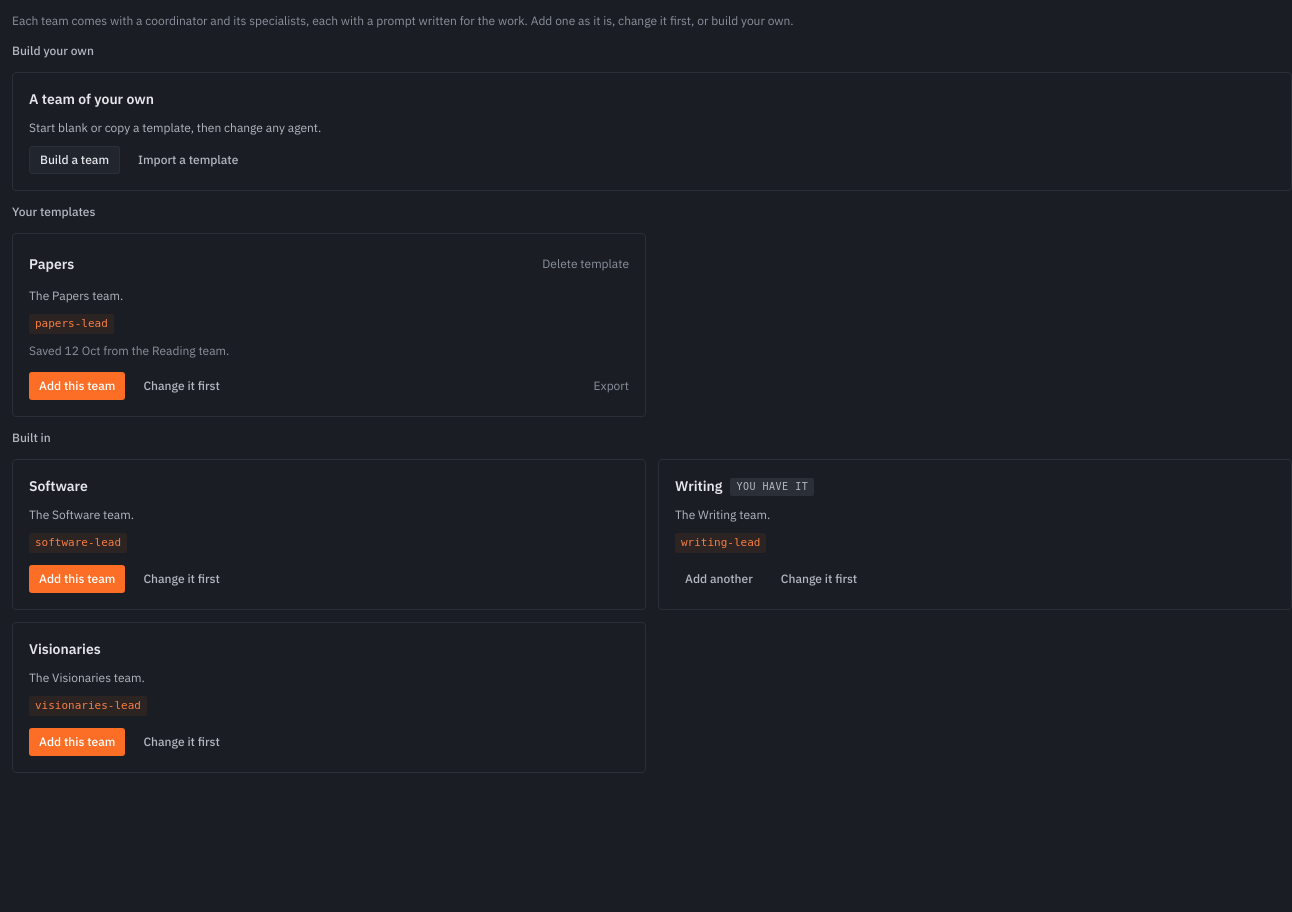
Test: AddTeam: deleting a template of yours › Keep, or Esc, puts the card back as it was, focus on Delete template
The width and height of the screenshot is (1292, 912).
Step 1. Click the button with aria-label "Delete template, Papers" → (586, 264), box [542,250,629,278]
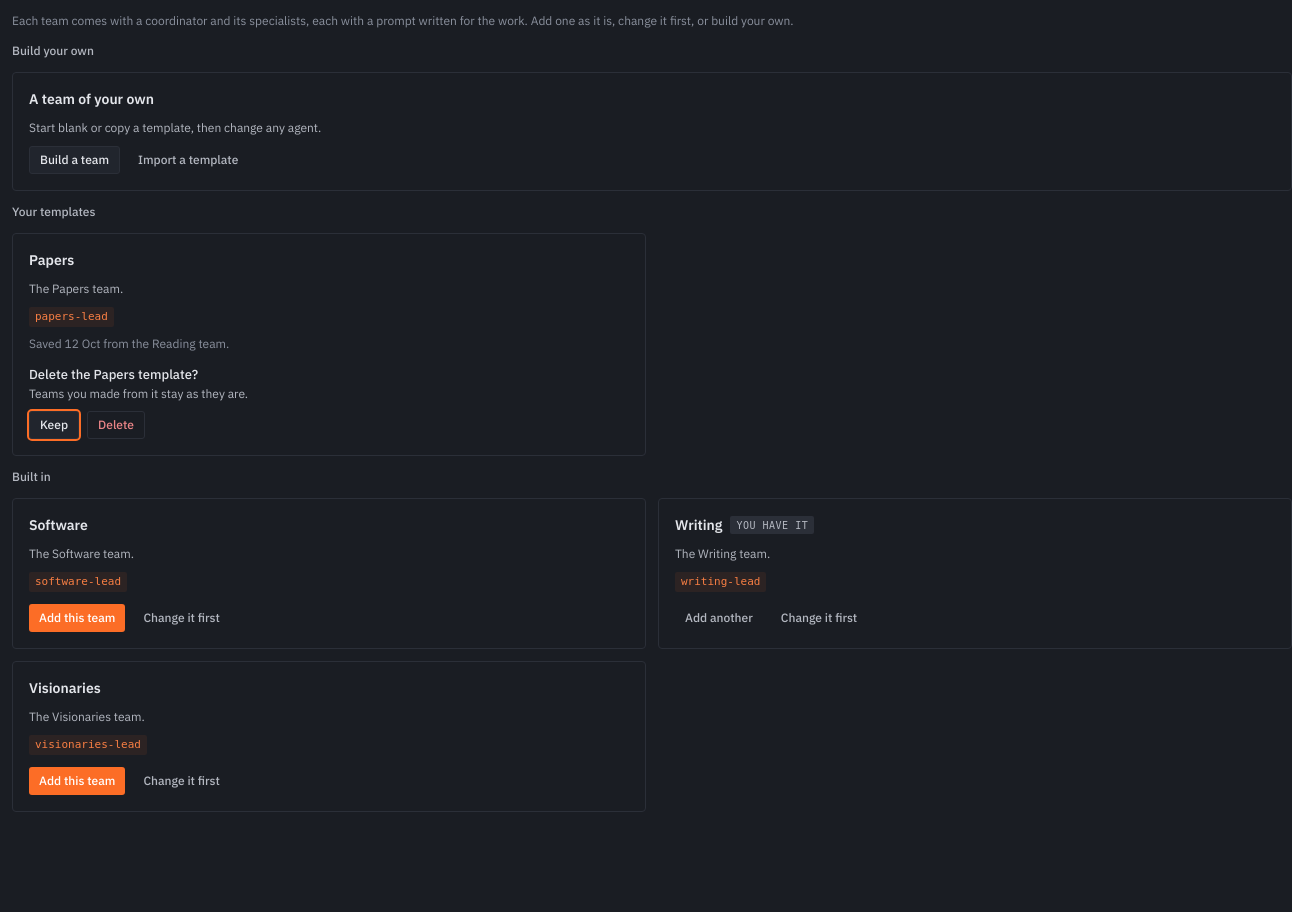
Step 2. Click the button "Keep" → (54, 424), box [29,410,79,438]
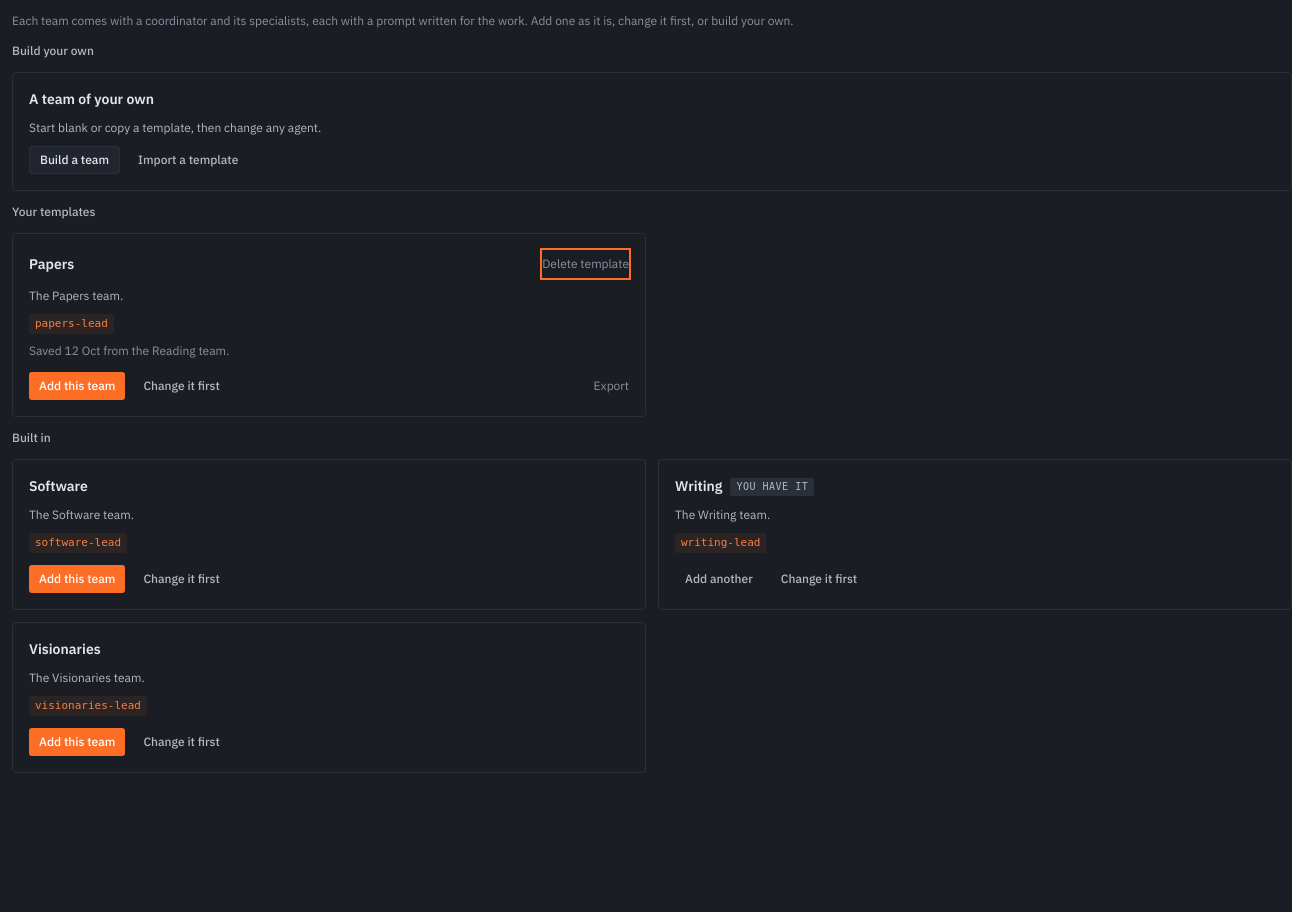
Step 3. Click the button with aria-label "Delete template, Papers" → (586, 264), box [542,250,629,278]
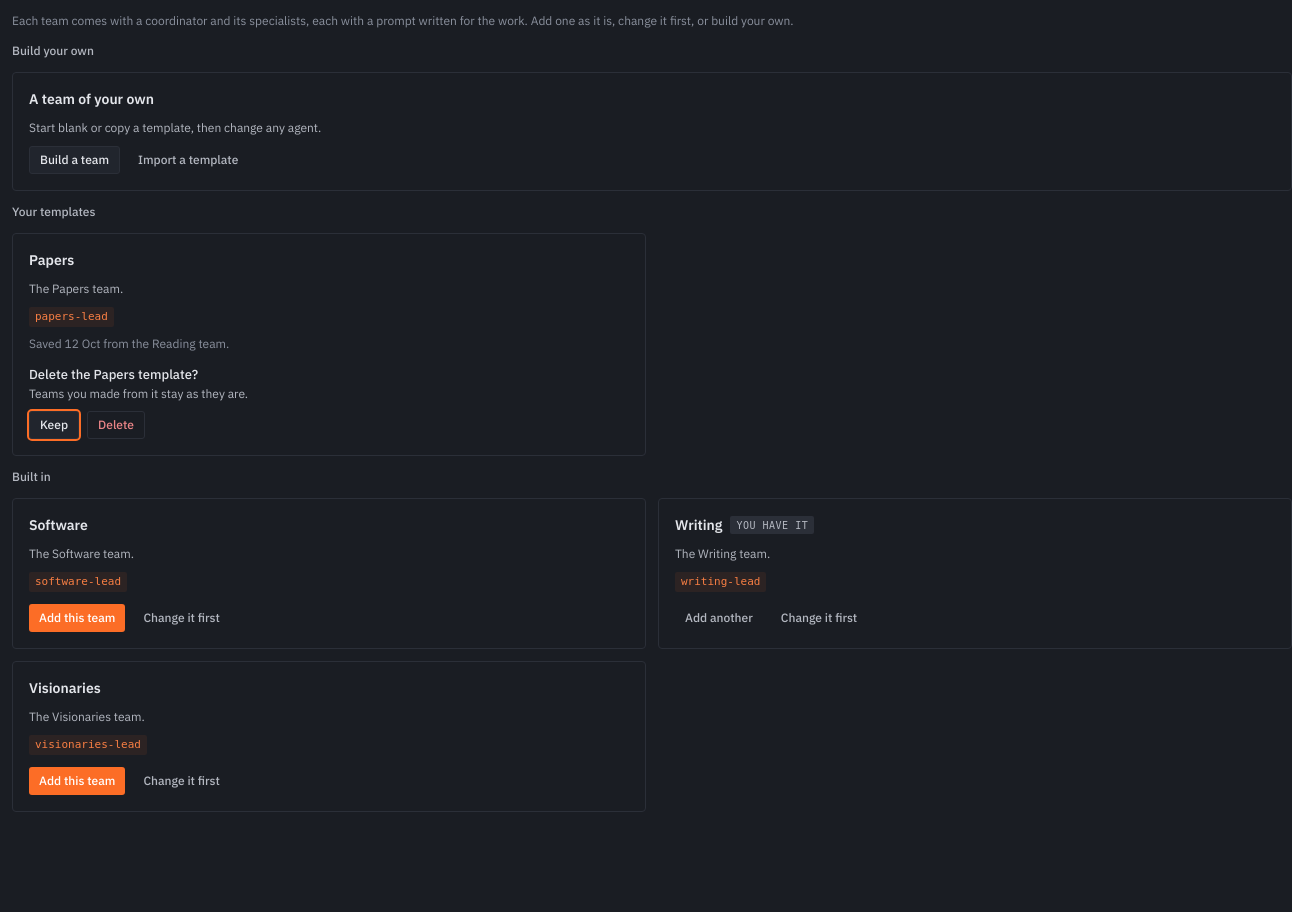
Step 4. Press Escape in the button "Keep", box [29,410,79,438]
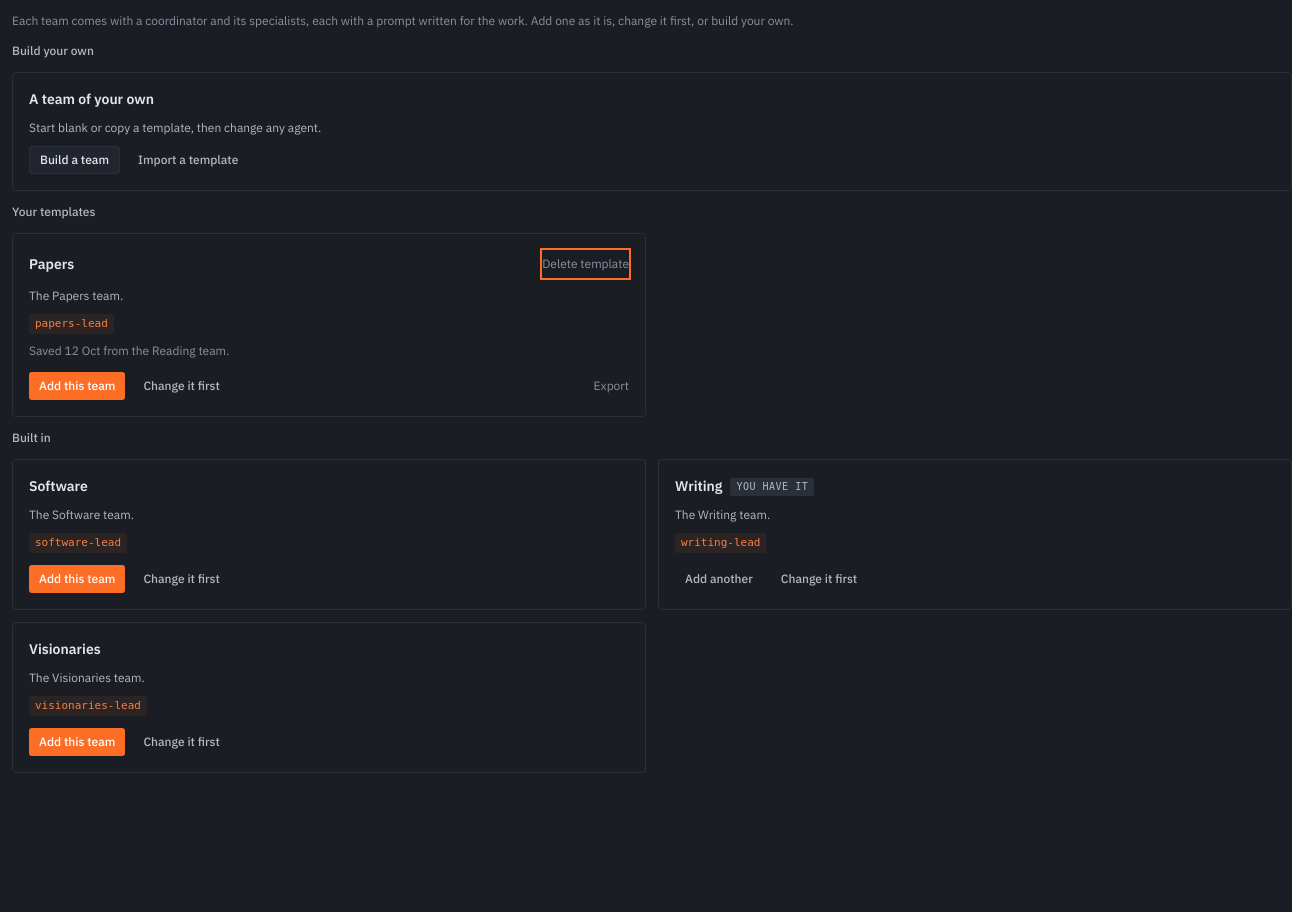
Expected: the text "Delete the Papers template?" is gone
